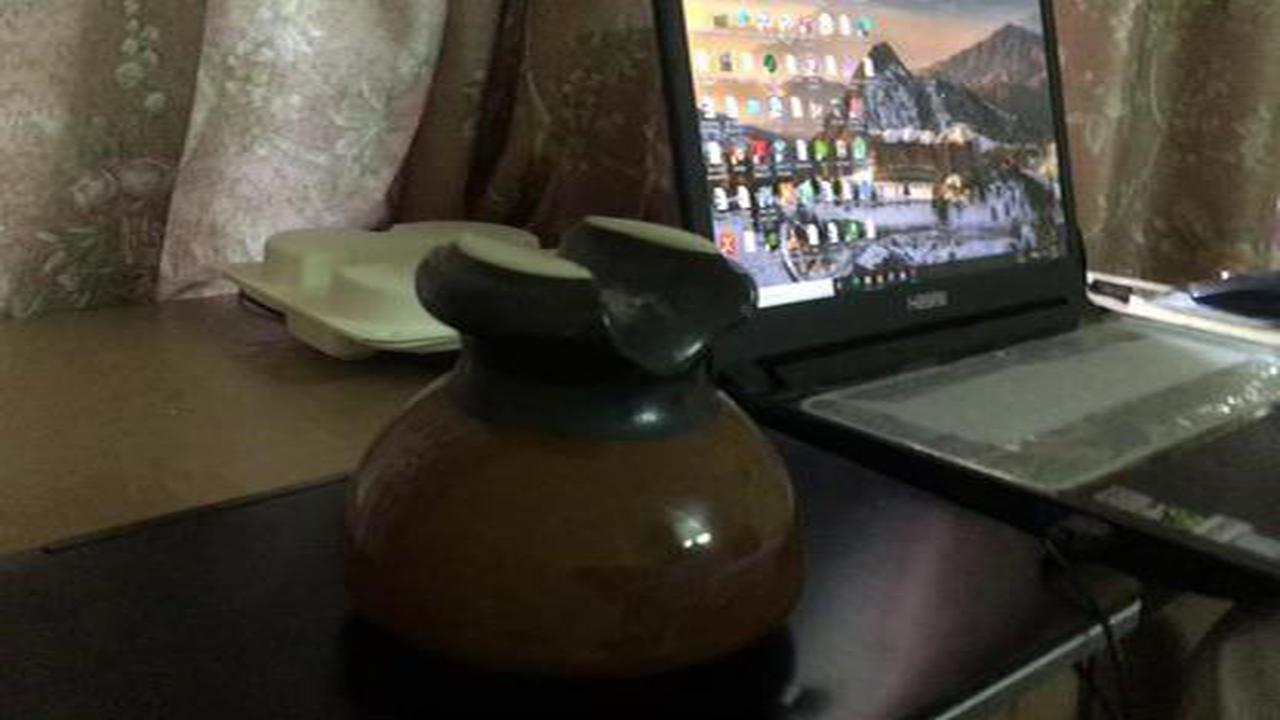insulator_pin: (342, 198, 816, 682)
